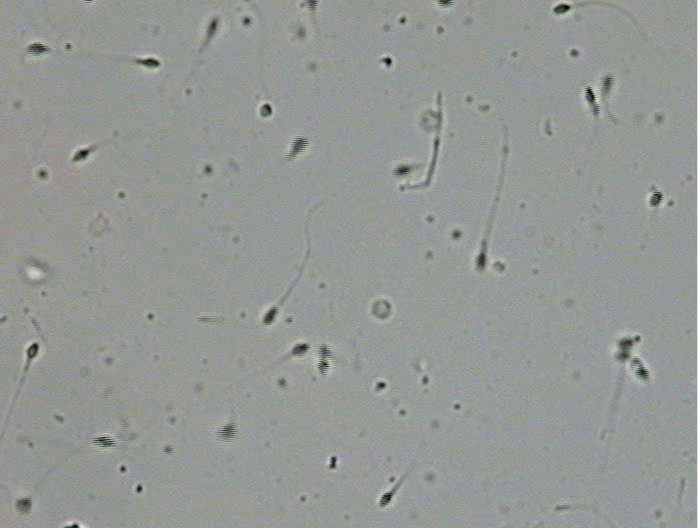Impurity: (371, 298, 392, 319)
S: (615, 337, 633, 362), (289, 136, 310, 157), (216, 423, 238, 442), (26, 42, 50, 56), (92, 435, 116, 448), (263, 306, 278, 325), (137, 57, 160, 69), (634, 364, 650, 381), (392, 164, 412, 177), (15, 498, 32, 513), (26, 342, 40, 360), (71, 149, 90, 162), (316, 359, 330, 376), (584, 86, 596, 105), (292, 343, 309, 356), (207, 18, 218, 38), (476, 251, 487, 271), (379, 492, 393, 507), (650, 191, 663, 207), (602, 74, 613, 92), (317, 344, 330, 359), (553, 4, 570, 14), (260, 103, 272, 117), (305, 1, 318, 13), (436, 1, 454, 8)
